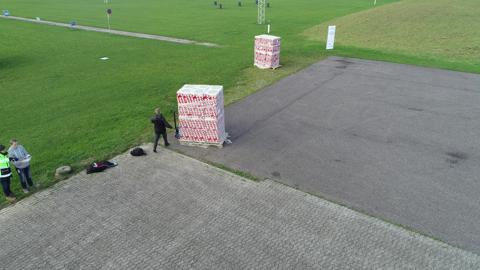RockwoolPallet: (175, 83, 226, 145)
